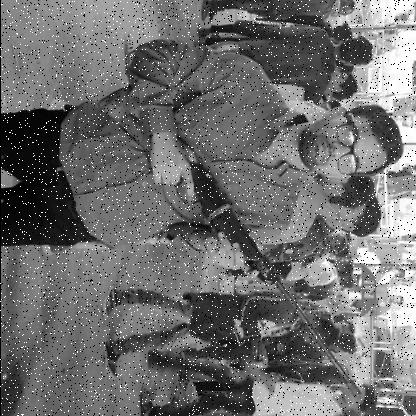rifle: (94, 82, 362, 400)
